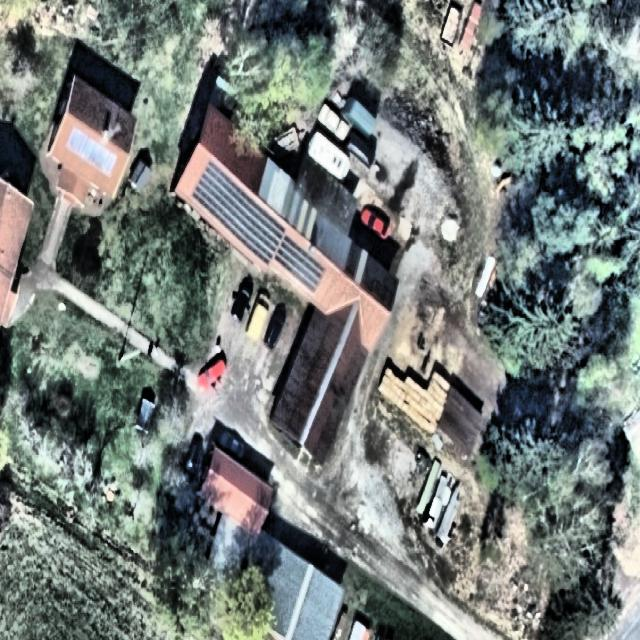roof_pv: (225, 192, 286, 267), (273, 237, 325, 294), (194, 155, 238, 222), (67, 128, 117, 176)
